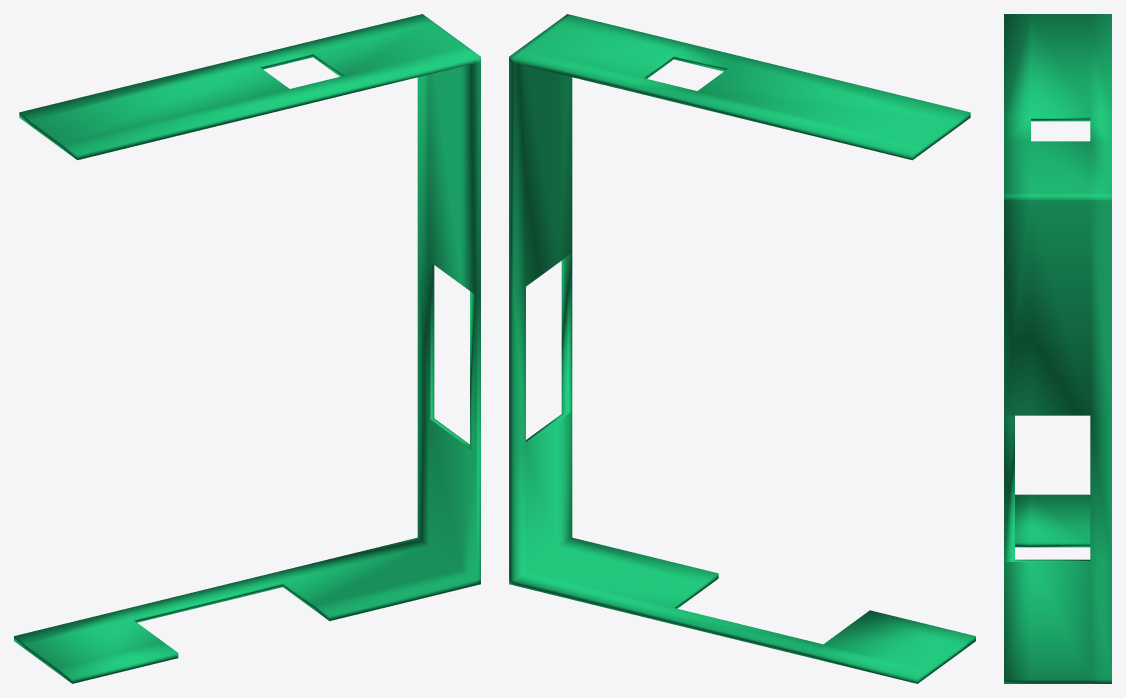
Rendered from wall_living_v1.fbx.
3 renders of one model, left to right at view 1: azimuth 30°, elevation 25°; view 2: azimuth 150°, elevation 25°; view 3: azimuth 270°, elevation 25°, orthographic. The views are drawn at different scales.
Parts seen in each view (by area): view 1: Cube.001; view 2: Cube.001; view 3: Cube.001.
Boxes of the visible parts, left/top/right/bottom form: Cube.001: left=14, top=14, right=480, bottom=683; Cube.001: left=509, top=14, right=975, bottom=683; Cube.001: left=1004, top=14, right=1111, bottom=683.
Bounding box in the file's own units: 0.0405 × 0.05 × 0.01.
